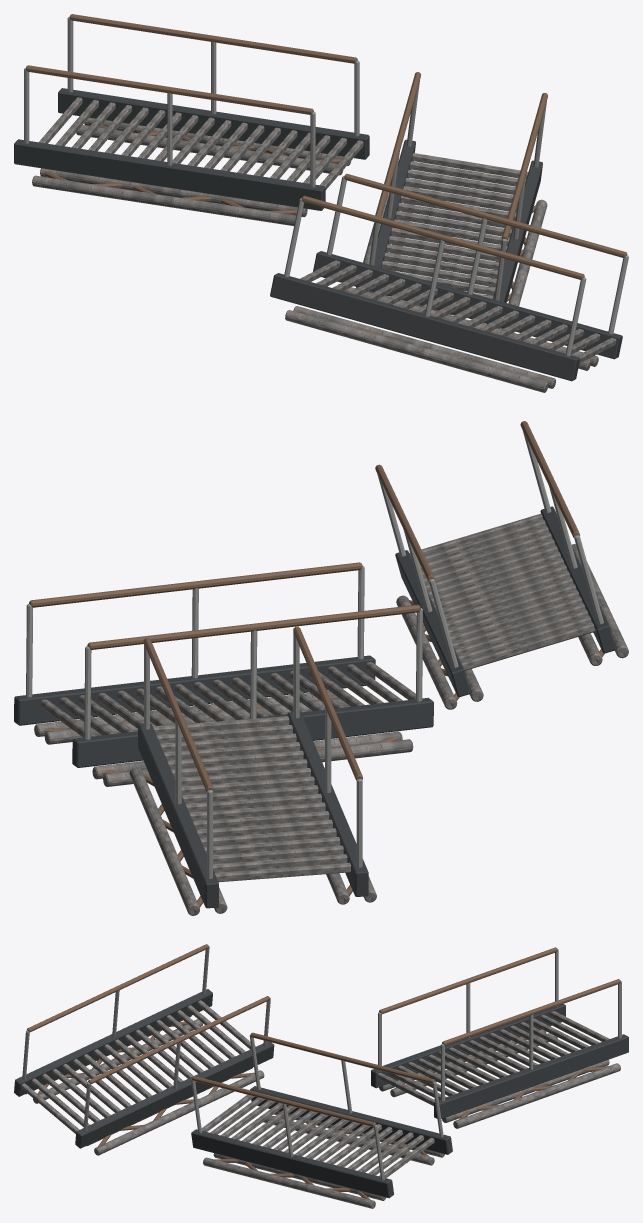
The model's file is broken-walkway.glb.
The picture shows the model from 3 angles, top to bottom: view 1: azimuth 30°, elevation 25°; view 2: azimuth 150°, elevation 25°; view 3: azimuth 270°, elevation 25°; orthographic projection. The views are drawn at different scales.
Visible parts, largest first — view 1: Disconnected catwalk section • editable solid geometry, Disconnected catwalk section.002 • editable solid geometry, Disconnected catwalk section.001 • editable solid geometry; view 2: Disconnected catwalk section • editable solid geometry, Disconnected catwalk section.001 • editable solid geometry, Disconnected catwalk section.002 • editable solid geometry; view 3: Disconnected catwalk section.002 • editable solid geometry, Disconnected catwalk section.001 • editable solid geometry, Disconnected catwalk section • editable solid geometry.
Part boxes in pixels (<box>): Disconnected catwalk section • editable solid geometry: <box>14,14,369,225</box>; Disconnected catwalk section.002 • editable solid geometry: <box>270,174,628,392</box>; Disconnected catwalk section.001 • editable solid geometry: <box>356,72,547,329</box>; Disconnected catwalk section • editable solid geometry: <box>129,626,376,915</box>; Disconnected catwalk section.001 • editable solid geometry: <box>14,562,433,786</box>; Disconnected catwalk section.002 • editable solid geometry: <box>375,421,628,709</box>; Disconnected catwalk section.002 • editable solid geometry: <box>14,944,274,1155</box>; Disconnected catwalk section.001 • editable solid geometry: <box>191,1032,452,1208</box>; Disconnected catwalk section • editable solid geometry: <box>371,947,628,1128</box>.
Size of the model in its own units: 4.08 by 1.82 by 6.91.
Materials: 4 (1 with a texture image).
